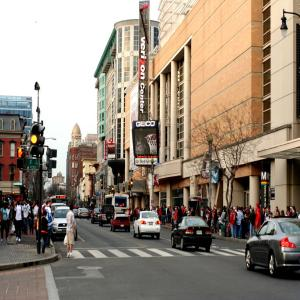Vehicle-registration-plate: (197, 231, 203, 236), (149, 223, 154, 226), (121, 225, 124, 228)
